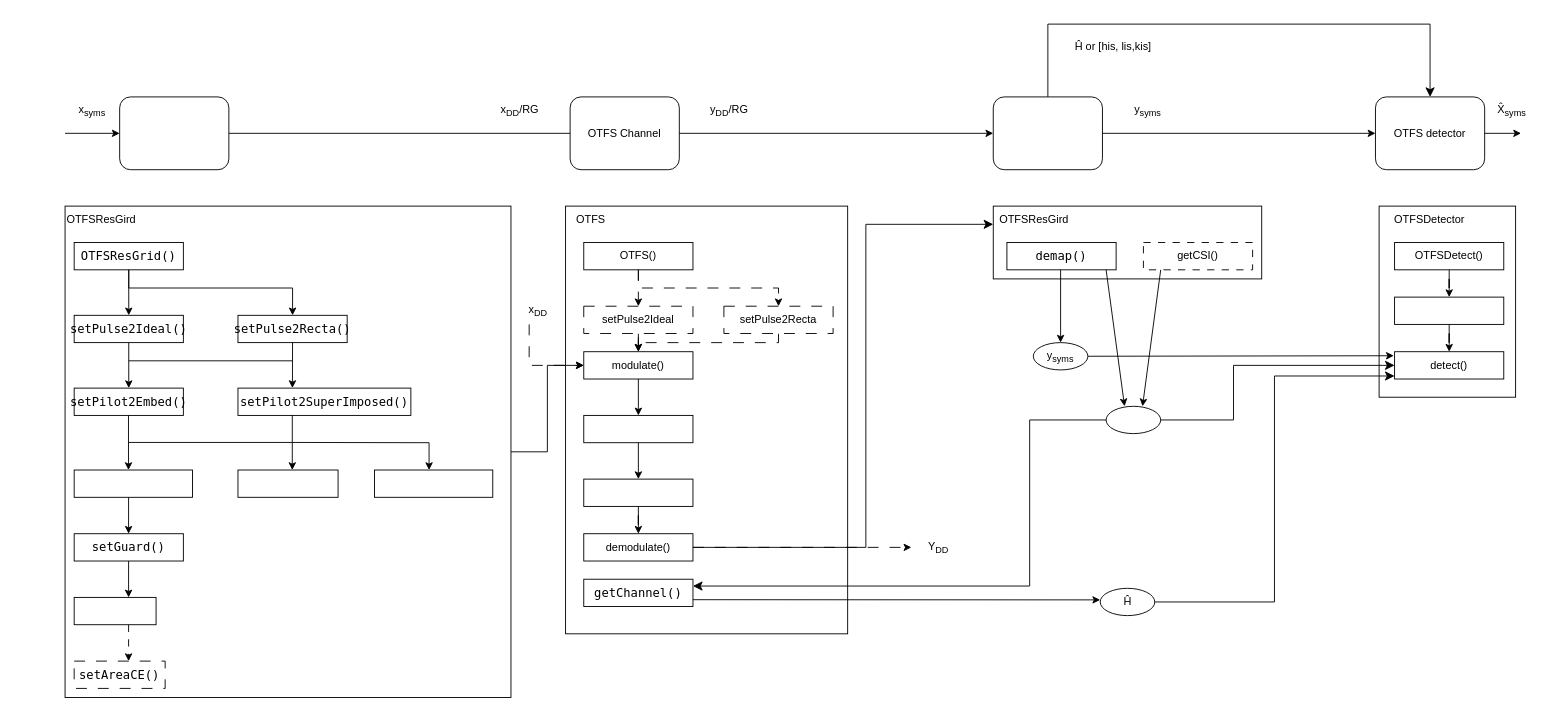
This 1554x725 diagram has some shape labels left out. Each missing label, with the centre of its shape:
"his, lis,kis" belongs at point (1133, 419).
"map()" belongs at point (114, 611).
"passChannel()" belongs at point (638, 492).
"RG demapr" belongs at point (1047, 133).
"RG map" belongs at point (174, 133).
"setChannel()" belongs at point (638, 429).
"setPilot2Center()" belongs at point (132, 483).
"setPilot2Flex()" belongs at point (433, 483).
"setPilot2ZP()" belongs at point (287, 483).
"useMPBase()" belongs at point (1449, 310).
